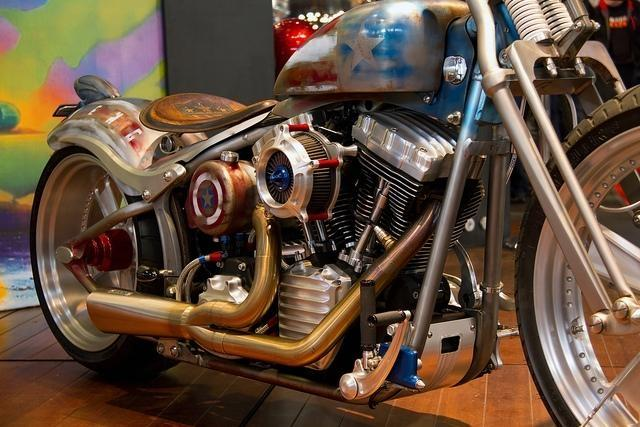motorcycle: (28, 20, 640, 427)
